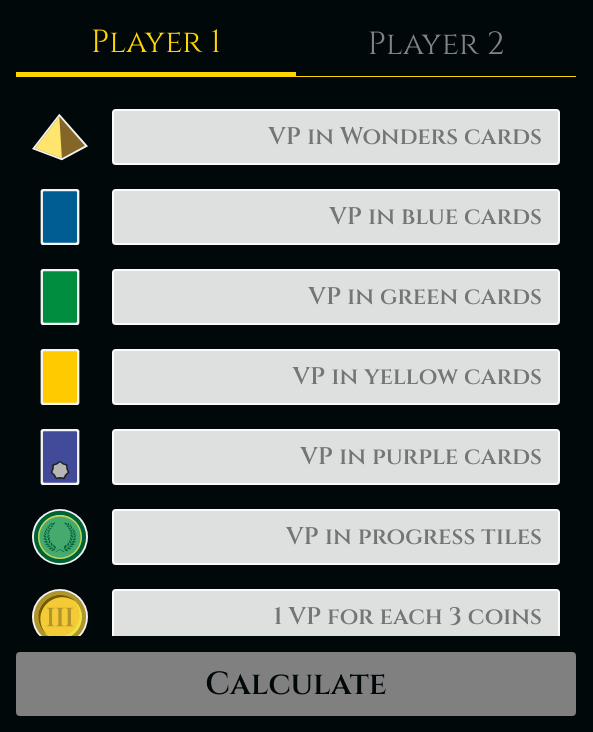
Test: Scorepad - Replay › Replay button is visible after winner is determined
In the number field with placeholder "VP in Wonders cards": (336, 137) [112,109,560,165], type "10"
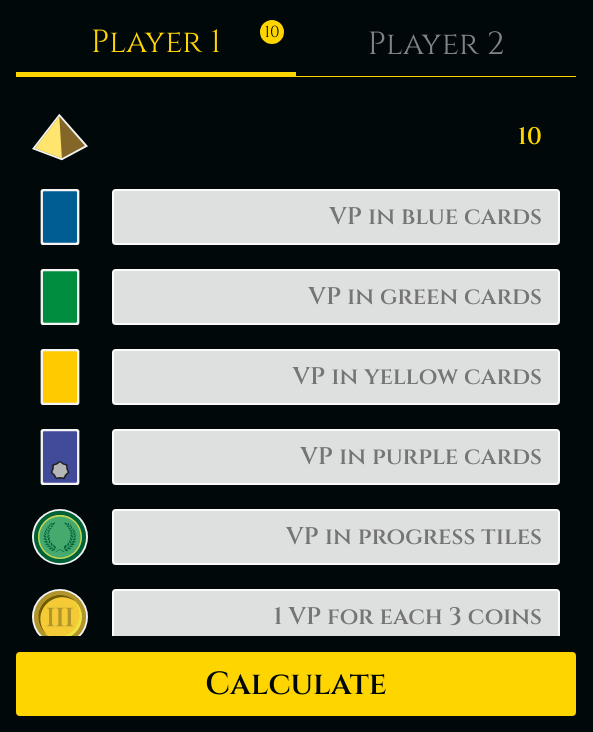
Click the button "Calculate": (296, 684) [16,652,576,716]
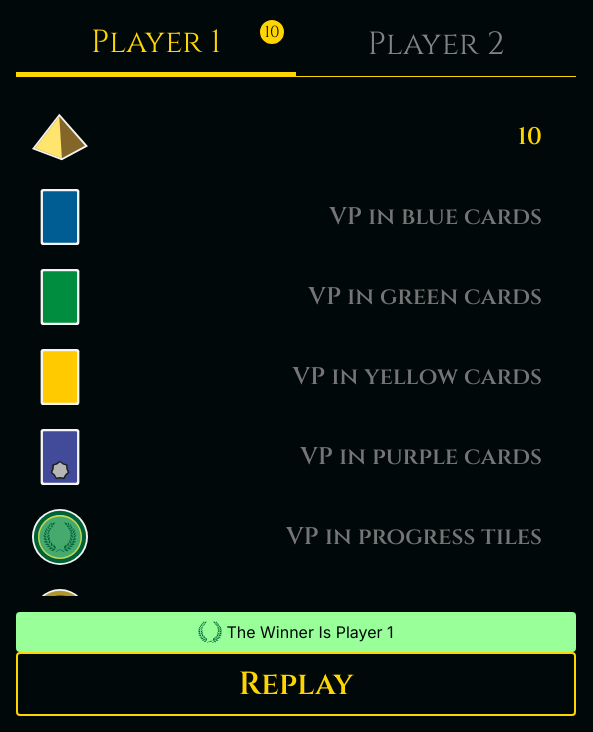
Expected: the button "Replay" is shown, [16,652,576,716]
